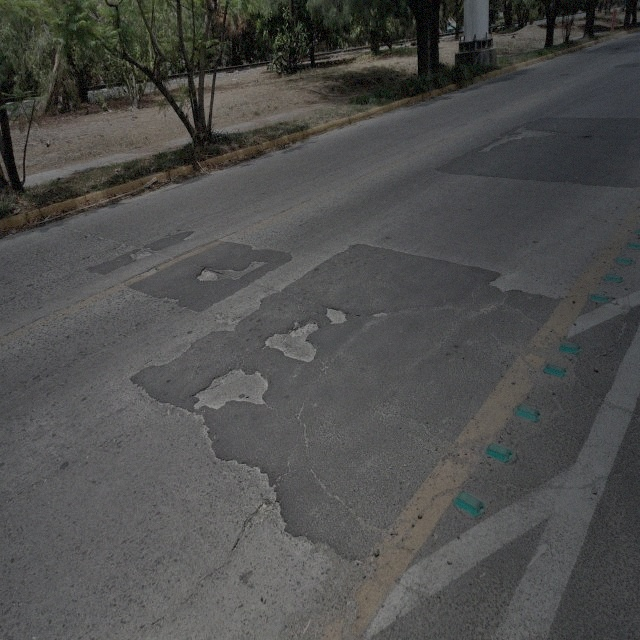pothole: (192, 361, 268, 421), (264, 318, 319, 366), (237, 497, 274, 544), (195, 260, 267, 284), (485, 128, 522, 152), (489, 270, 520, 296), (323, 304, 349, 328), (518, 125, 556, 141), (130, 248, 154, 260), (582, 132, 602, 143), (370, 310, 389, 320)
